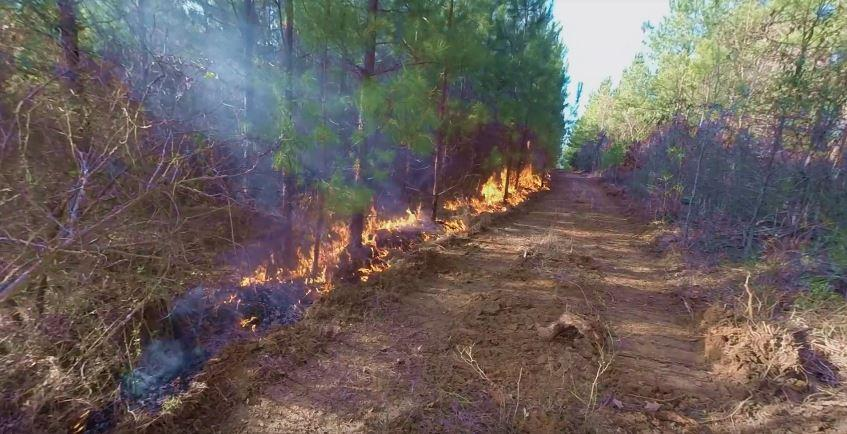fire: (463, 170, 529, 216), (348, 211, 419, 238), (289, 243, 333, 283)
